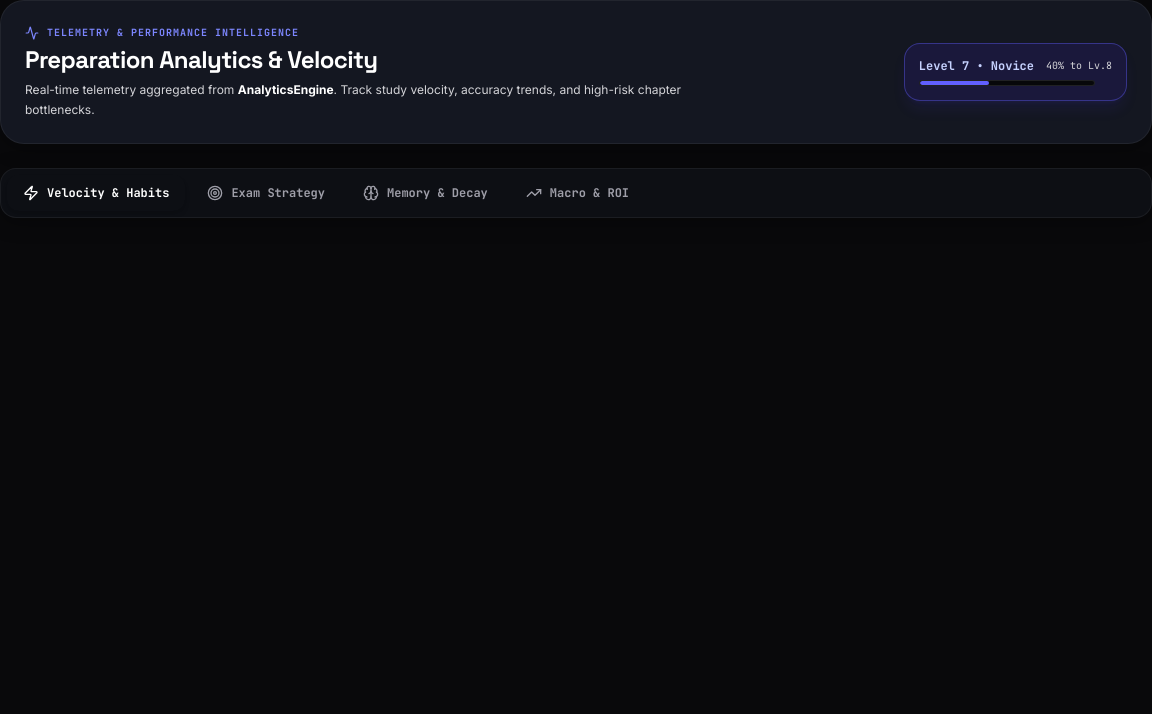
AnalyticsPage Feature View (Magnitude 5.1) › allows switching between intelligence tabs
Switch to Exam Strategy tab
What coordinates should you click on to do the following:
click the button "Exam Strategy"
I would click on:
 (266, 193)
Its box is [191,175,341,211].
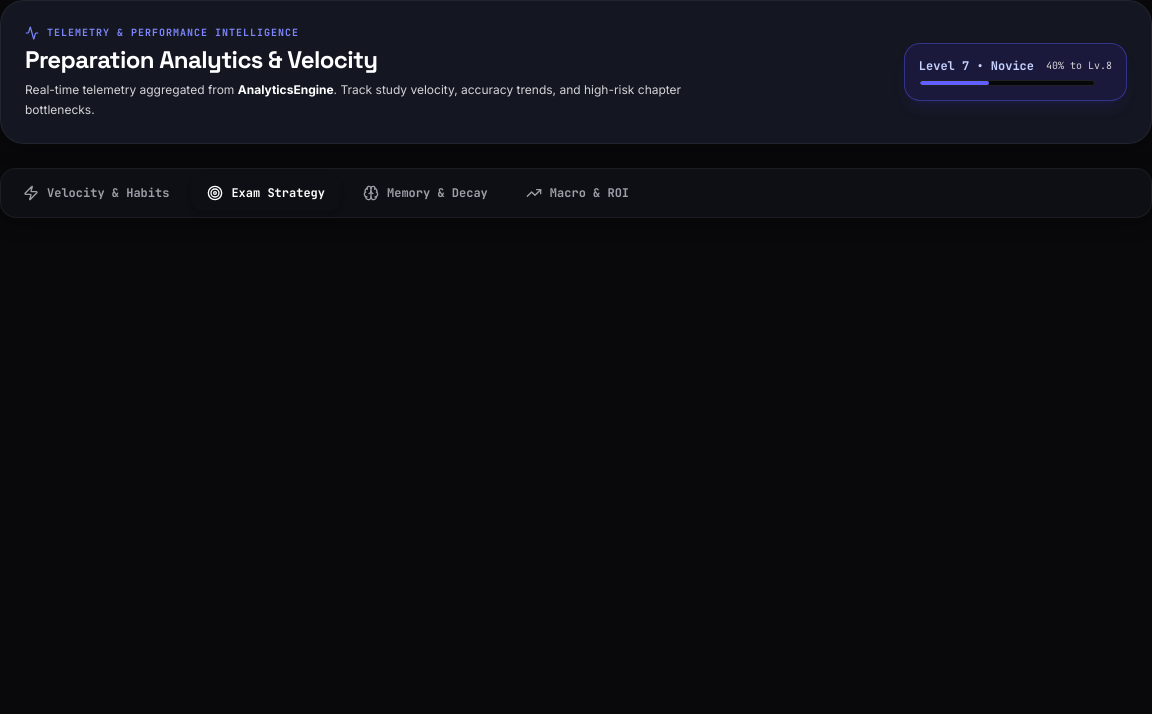
Switch to Memory & Decay tab
What coordinates should you click on to do the following:
click the button "Memory & Decay"
I would click on:
 (425, 193)
Its box is [347,175,504,211].
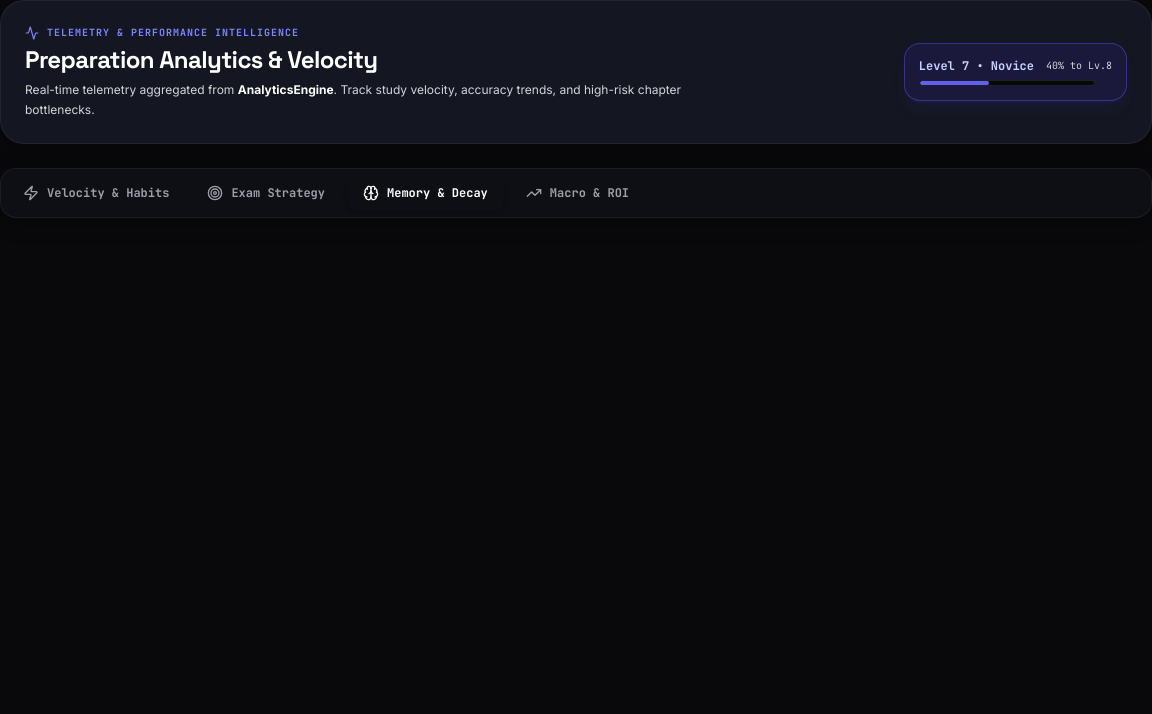
Switch to Macro & ROI tab
What coordinates should you click on to do the following:
click the button "Macro & ROI"
I would click on:
 (577, 193)
Its box is [510,175,645,211].
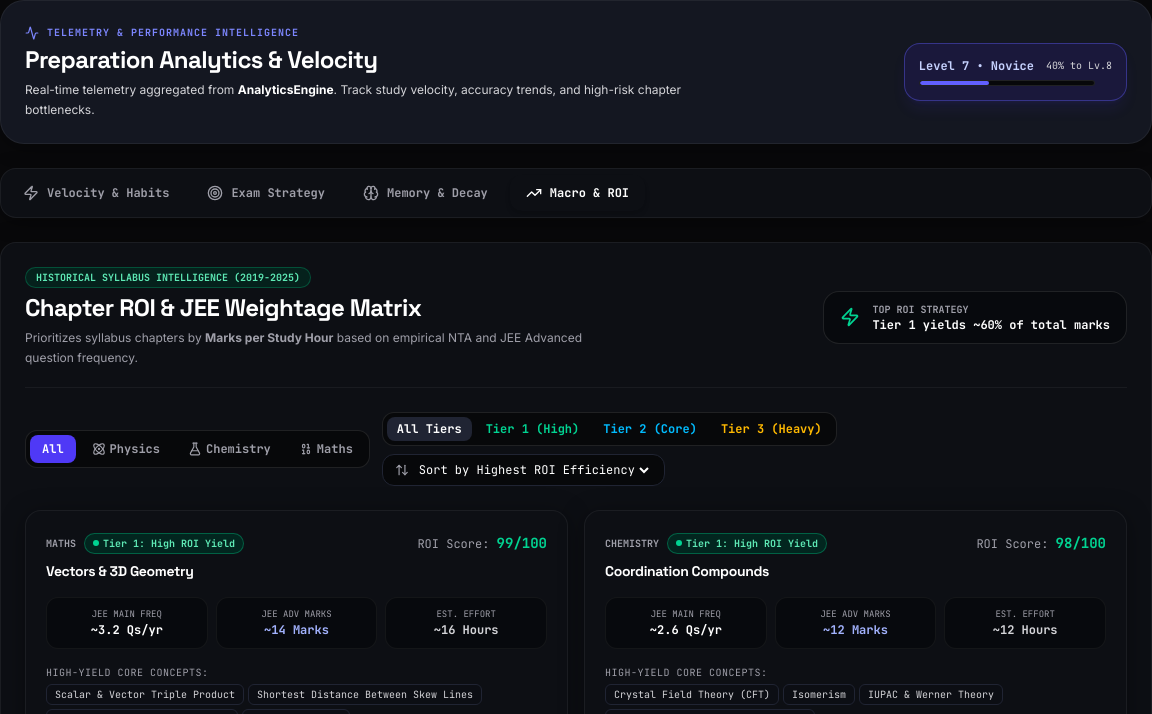
Expected: the heading "Chapter ROI & JEE Weightage Matrix" is shown, [25,292,421,323]
